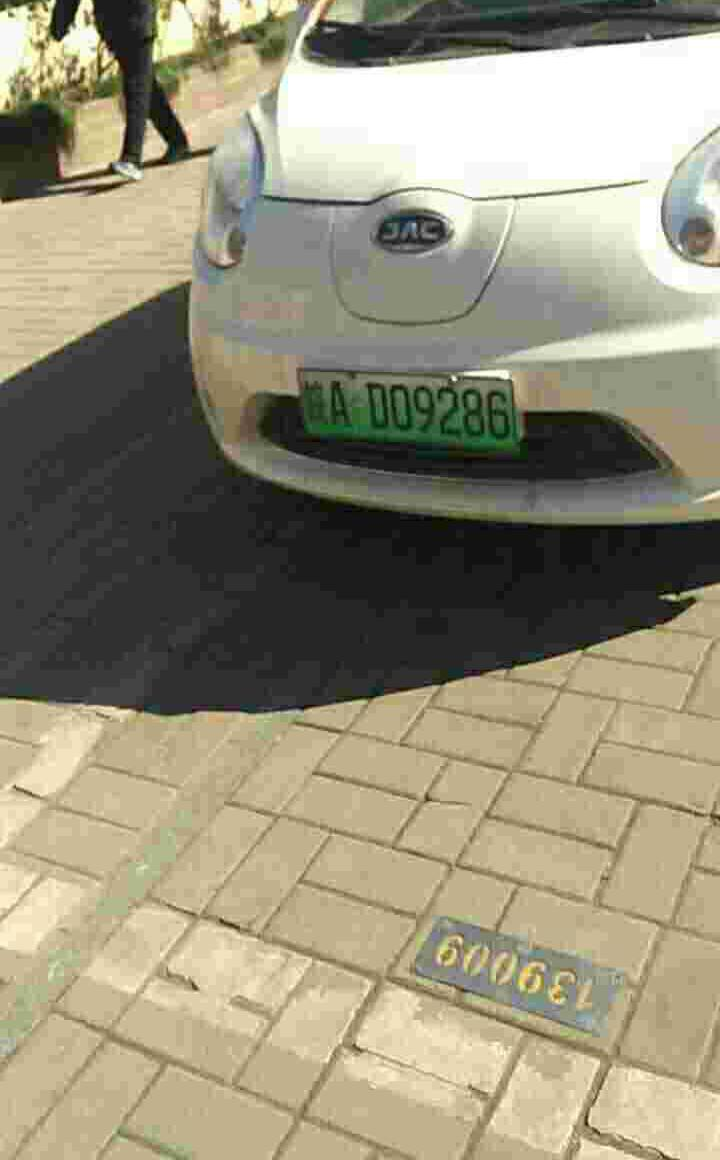car: (291, 366, 537, 456)
